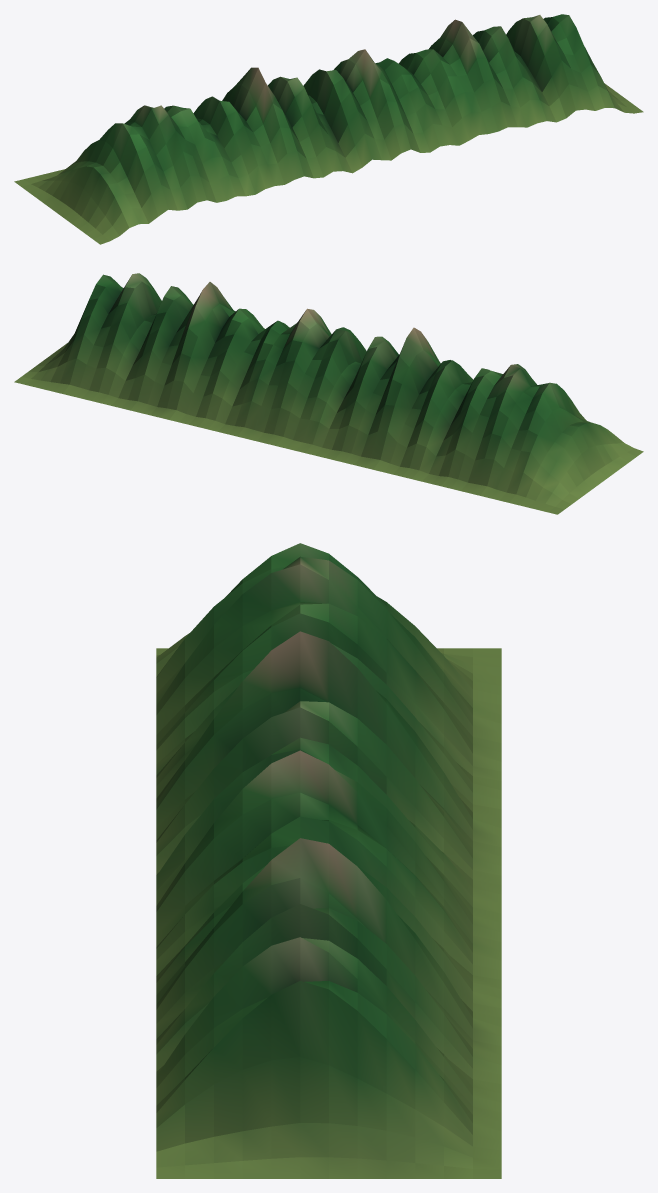
File: avila_ridge.glb
3 views of the same model, one above another, from view 1: azimuth 30°, elevation 25°; view 2: azimuth 150°, elevation 25°; view 3: azimuth 270°, elevation 25° (orthographic). The views are drawn at different scales.
Parts seen in each view (by area): view 1: avila_ridge; view 2: avila_ridge; view 3: avila_ridge.
Part boxes in pixels (box(x1,y1,x2,y2)): avila_ridge: box(14, 14, 643, 244); avila_ridge: box(14, 273, 643, 514); avila_ridge: box(156, 543, 501, 1178).
Size of the model in its own units: 160 by 29.04 by 44.
